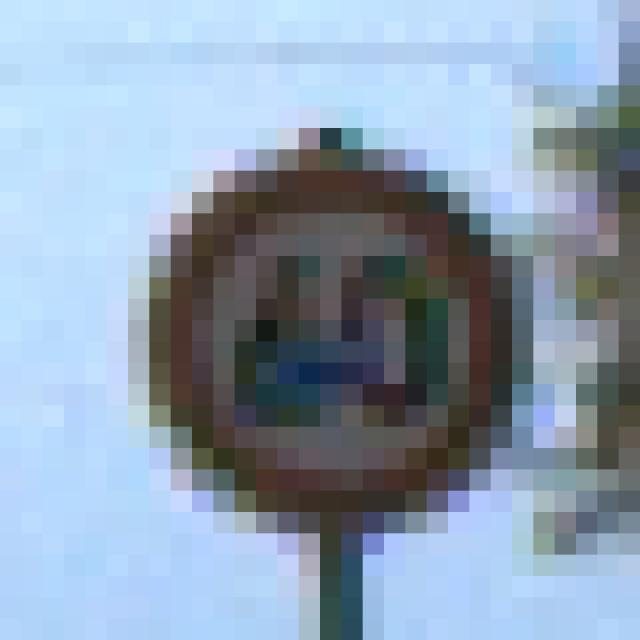Ograniczenie predkosci do 60: (71, 83, 598, 578)
